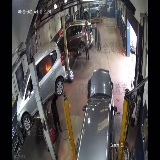fire: (42, 61, 52, 74)
